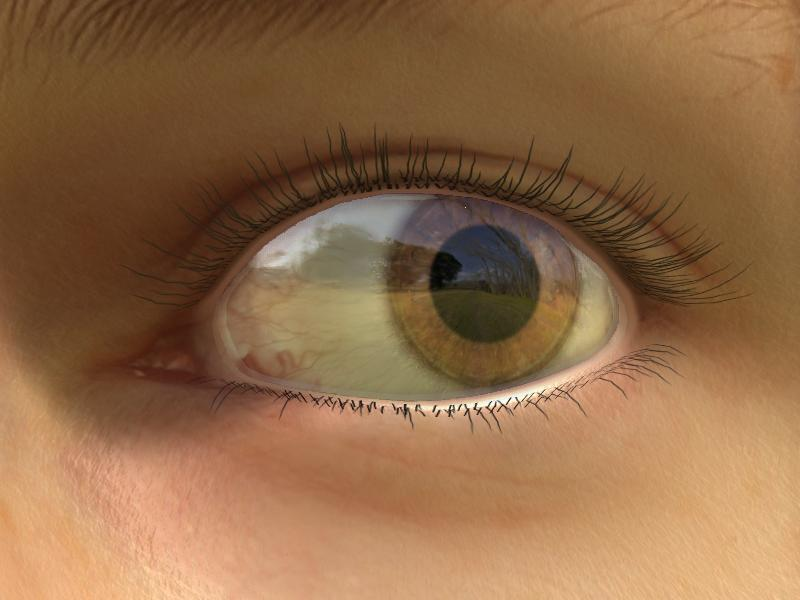eye: (385, 191, 584, 385)
